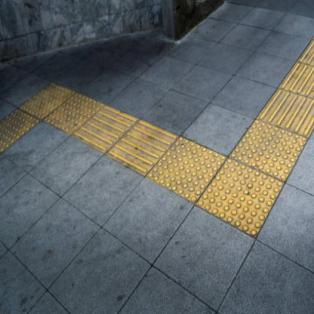Podoctatil: (1, 38, 314, 236)
